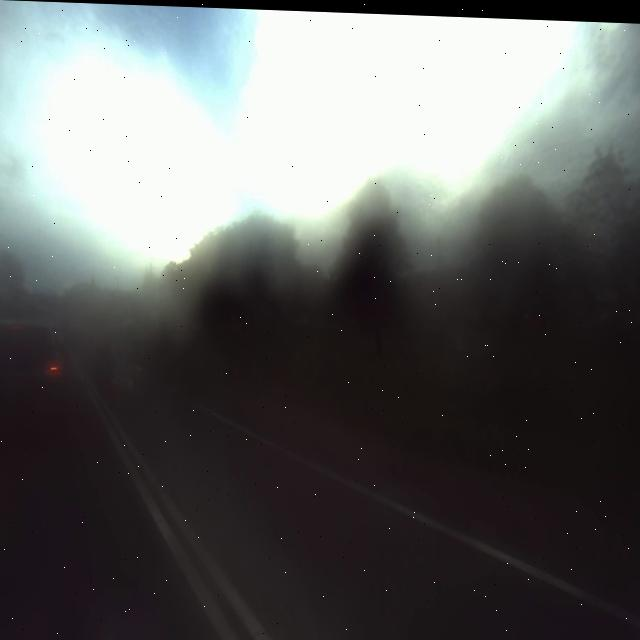car: (0, 304, 65, 436)
